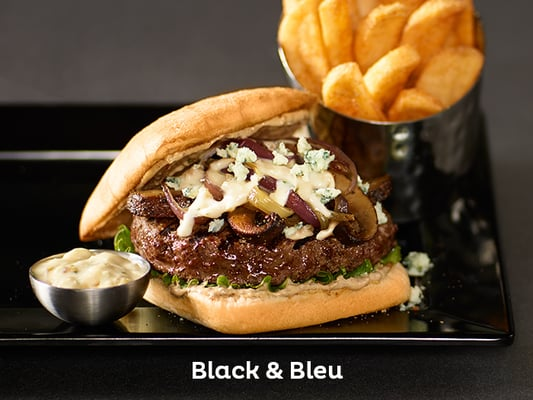soup: (79, 85, 415, 335)
sushi: (29, 247, 152, 327)
